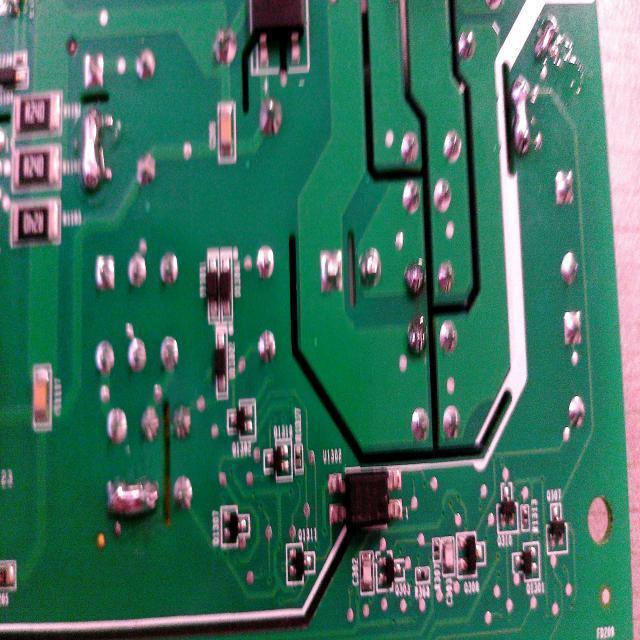Soldering shorted: (99, 470, 169, 531), (505, 72, 540, 172), (80, 108, 112, 200), (533, 10, 562, 70)
